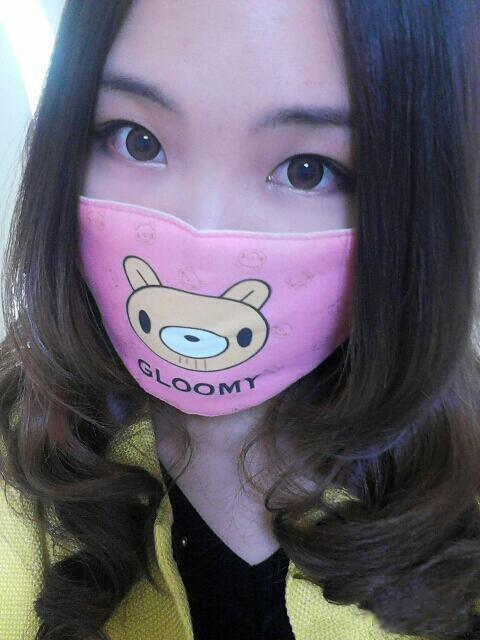OK: (62, 83, 386, 407)
